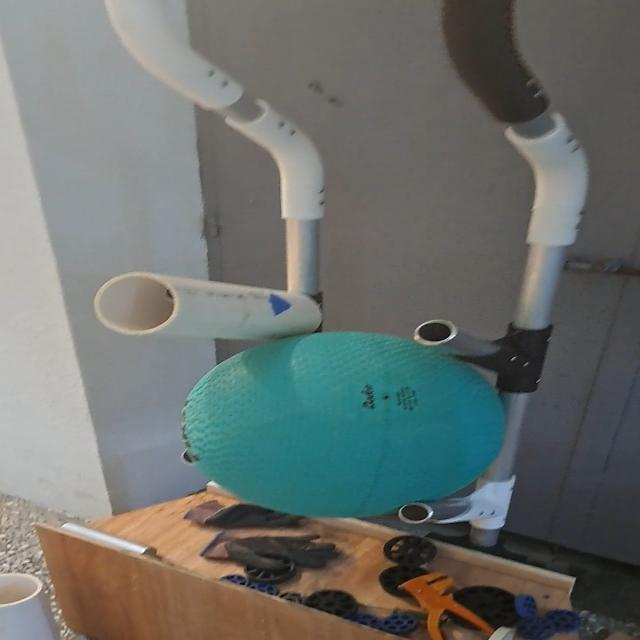ALGAE: (170, 331, 510, 517)
CORAL: (90, 268, 328, 344)
